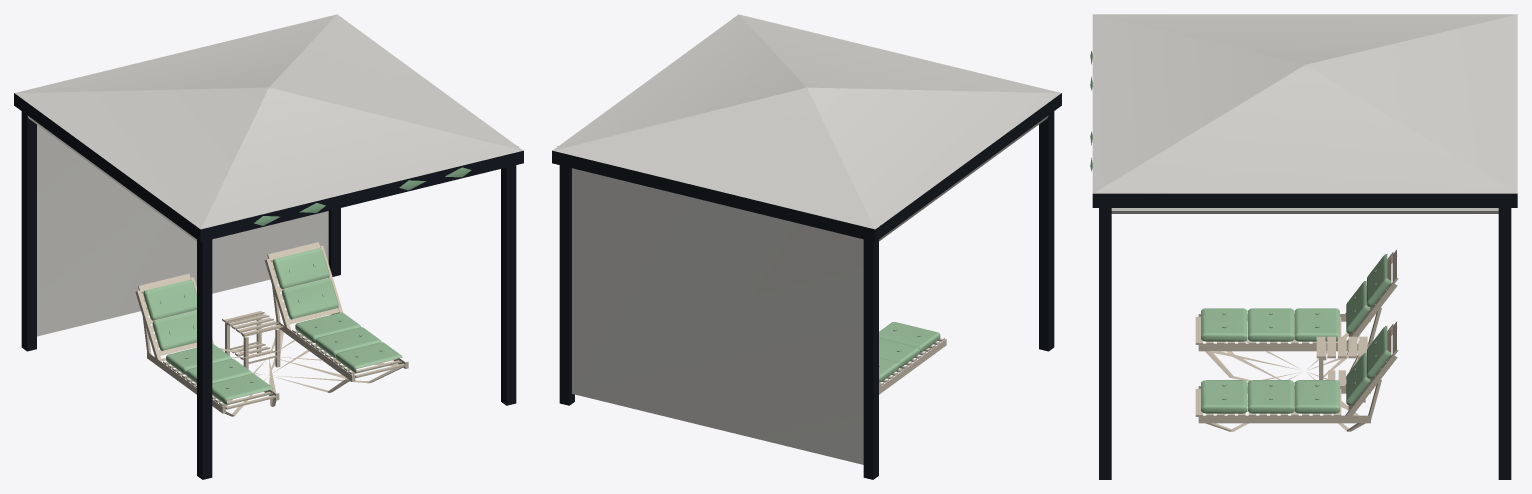
The picture shows the model from 3 angles, left to right: view 1: azimuth 30°, elevation 25°; view 2: azimuth 150°, elevation 25°; view 3: azimuth 270°, elevation 25°; orthographic projection. The views are drawn at different scales.
Parts seen in each view (by area): view 1: Fabric_Roof, Fabric_Back_Drop, Posts, Cushions, Lounger_Slat_Frame, Eave_Beams, Table_Slat_Frame, Leaf_Crests; view 2: Fabric_Back_Drop, Fabric_Roof, Posts, Eave_Beams, Cushions, Lounger_Slat_Frame; view 3: Fabric_Roof, Cushions, Posts, Lounger_Slat_Frame, Eave_Beams, Fabric_Rolls, Table_Slat_Frame.
Boxes of the visible parts, box(x1,y1,x2,y2) form: Fabric_Roof: box(14, 14, 522, 229); Fabric_Back_Drop: box(37, 125, 328, 336); Posts: box(21, 111, 516, 479); Cushions: box(143, 248, 402, 404); Lounger_Slat_Frame: box(135, 242, 408, 416); Eave_Beams: box(14, 93, 523, 241); Table_Slat_Frame: box(222, 311, 283, 369); Leaf_Crests: box(254, 167, 471, 225); Fabric_Back_Drop: box(572, 168, 863, 464); Fabric_Roof: box(553, 14, 1061, 229); Posts: box(559, 111, 1054, 479); Eave_Beams: box(552, 93, 1061, 241); Cushions: box(879, 322, 940, 382); Lounger_Slat_Frame: box(879, 338, 946, 394); Fabric_Roof: box(1092, 14, 1517, 193); Cushions: box(1201, 254, 1391, 413); Posts: box(1099, 208, 1511, 479); Lounger_Slat_Frame: box(1195, 249, 1398, 431); Eave_Beams: box(1092, 193, 1517, 207); Fabric_Rolls: box(1111, 208, 1498, 213); Table_Slat_Frame: box(1316, 336, 1367, 402).
Size of what is drawn, in the model's own units: 4 by 3.4 by 4.02.
Materials: 6 (1 with a texture image).
